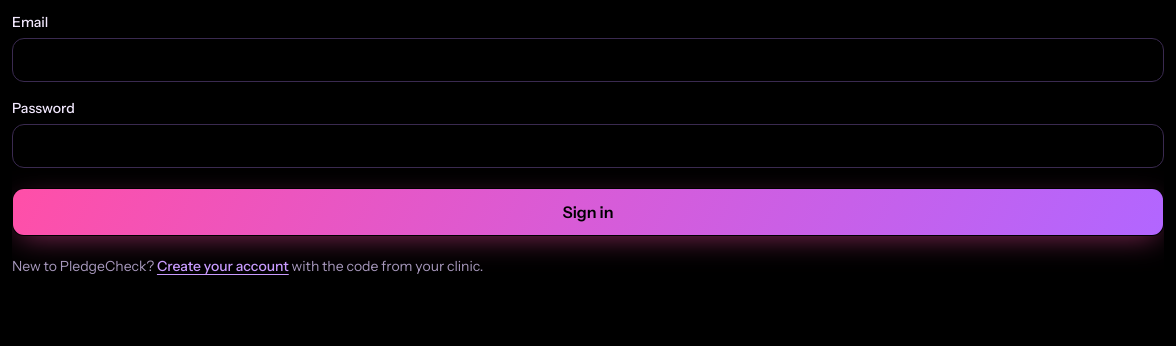
PatientSignInForm › uses one message for every credential failure
Step 1. Type "a@b.test" into the field labelled "Email" → (588, 60), box [12,38,1164,82]
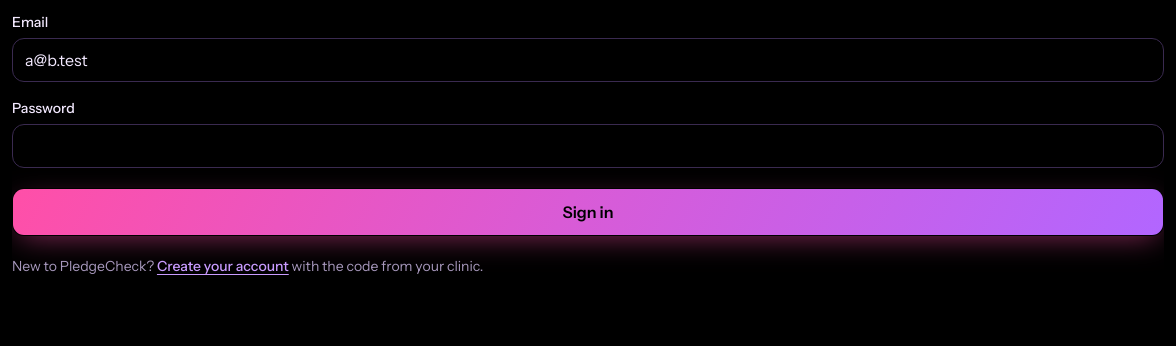
Step 2. Click the button "Sign in" → (588, 212), box [12,188,1164,236]
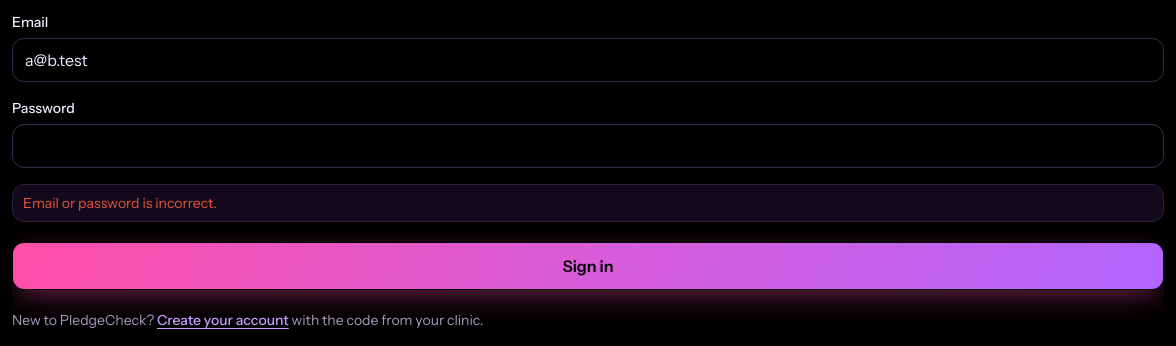
expect the message reads "Email or password is incorrect.": met, box [23,194,217,212]
